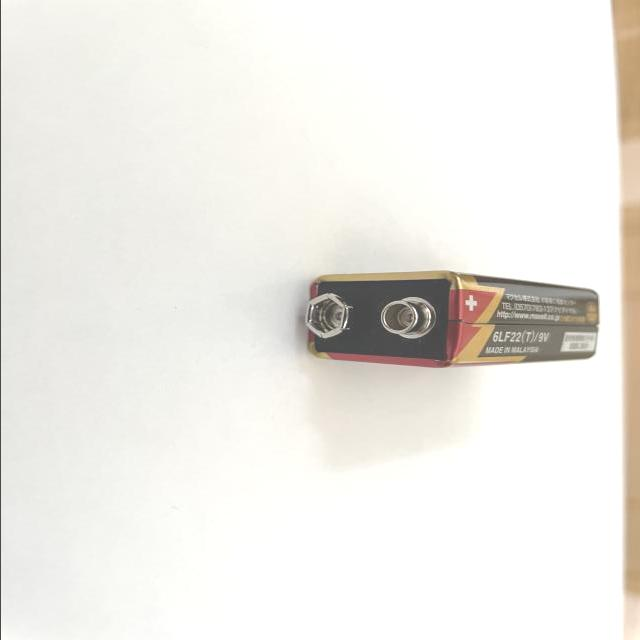9V: (303, 270, 600, 368)
